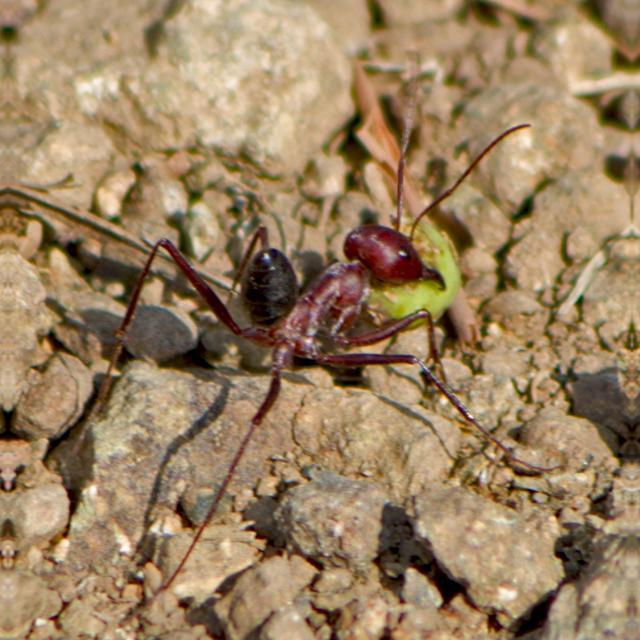Cataglyphis: (185, 175, 467, 418)
